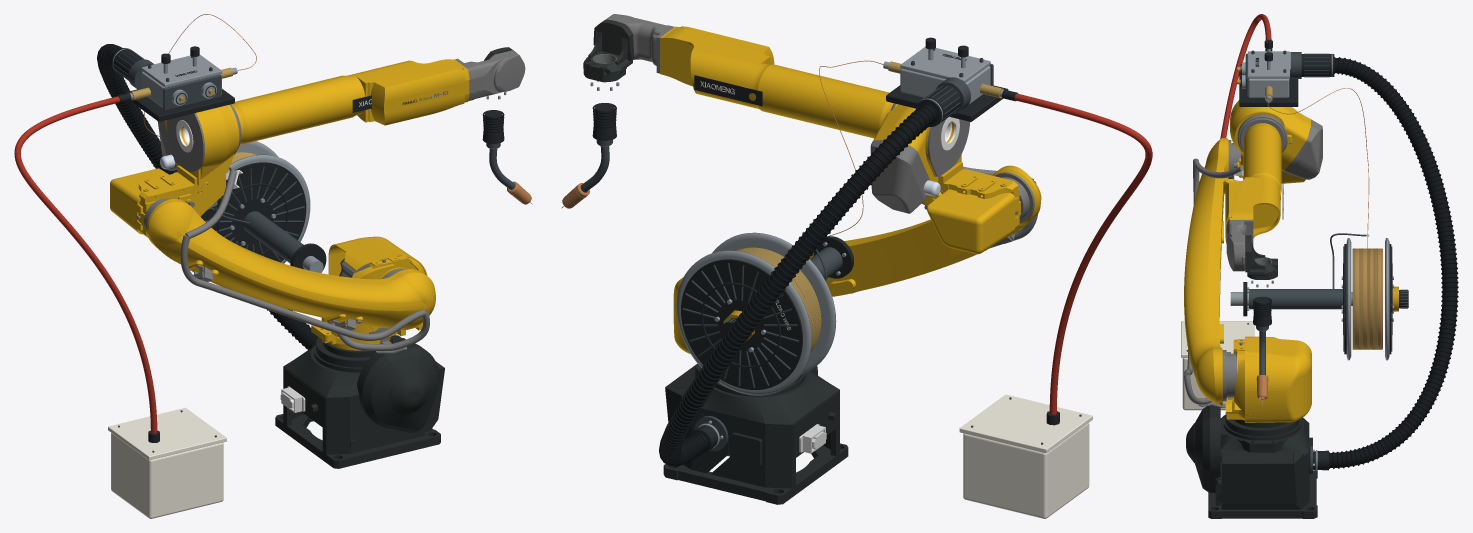
Rendered from fanuc-m10id-8l-welding.glb.
The picture shows the model from 3 angles, left to right: view 1: azimuth 30°, elevation 25°; view 2: azimuth 150°, elevation 25°; view 3: azimuth 270°, elevation 25°; orthographic projection. The views are drawn at different scales.
Visible parts, largest first — view 1: Mesh_0-mesh (×5), auxiliary-power-box, Mesh_0-mesh_1 (×3), Mesh_0-mesh_5, black-spool-web, junction-lid, red-supply-hose, Mesh_0-mesh_4, corrugated-main-hose, feed-block-top, spool-bearing-spacer, feeder-mount (+2 smaller); view 2: Mesh_0-mesh (×5), black-spool-web, auxiliary-power-box, corrugated-main-hose, stainless-spool-rim (×2), Mesh_0-mesh_4, junction-lid, red-supply-hose, Mesh_0-mesh_5, Mesh_0-mesh_1 (×2), feed-block-top, machined-feeder-body (+5 smaller); view 3: Mesh_0-mesh (×6), corrugated-main-hose, Mesh_0-mesh_1 (×3), Mesh_0-mesh_5, spool-bearing-spacer, copper-wire-pack, stainless-spool-rim (×2), feed-block-top, red-supply-hose, junction-lid, feeder-mount, machined-feeder-body (+4 smaller).
Boxes of the visible parts, x1,y1,x2,y2 form: Mesh_0-mesh (×5): [137, 59, 469, 468]; auxiliary-power-box: [111, 433, 223, 518]; Mesh_0-mesh_1 (×3): [144, 50, 525, 353]; Mesh_0-mesh_5: [138, 104, 239, 237]; black-spool-web: [201, 162, 306, 262]; junction-lid: [108, 407, 226, 460]; red-supply-hose: [14, 96, 157, 433]; Mesh_0-mesh_4: [110, 168, 168, 234]; corrugated-main-hose: [103, 46, 318, 348]; feed-block-top: [141, 54, 222, 87]; spool-bearing-spacer: [243, 211, 303, 263]; feeder-mount: [125, 89, 234, 121]; Mesh_0-mesh (×5): [583, 19, 1041, 504]; black-spool-web: [681, 259, 802, 389]; auxiliary-power-box: [963, 423, 1089, 518]; corrugated-main-hose: [662, 105, 936, 459]; stainless-spool-rim (×2): [676, 232, 836, 395]; Mesh_0-mesh_4: [927, 189, 1018, 254]; junction-lid: [959, 394, 1092, 453]; red-supply-hose: [1014, 93, 1152, 414]; Mesh_0-mesh_5: [873, 104, 1020, 228]; Mesh_0-mesh_1 (×2): [606, 14, 1037, 293]; feed-block-top: [900, 46, 990, 82]; machined-feeder-body: [900, 66, 990, 104]; Mesh_0-mesh (×6): [1184, 100, 1322, 518]; corrugated-main-hose: [1330, 58, 1457, 467]; Mesh_0-mesh_1 (×3): [1184, 140, 1253, 407]; Mesh_0-mesh_5: [1230, 101, 1310, 179]; spool-bearing-spacer: [1249, 289, 1342, 309]; copper-wire-pack: [1355, 249, 1382, 349]; stainless-spool-rim (×2): [1346, 238, 1389, 360]; feed-block-top: [1248, 51, 1289, 78]; red-supply-hose: [1220, 14, 1271, 138]; junction-lid: [1181, 321, 1254, 357]; feeder-mount: [1239, 69, 1298, 106]; machined-feeder-body: [1248, 78, 1289, 97].
Size of what is drawn, in the model's own units: 1.67 by 1.29 by 0.8702.
